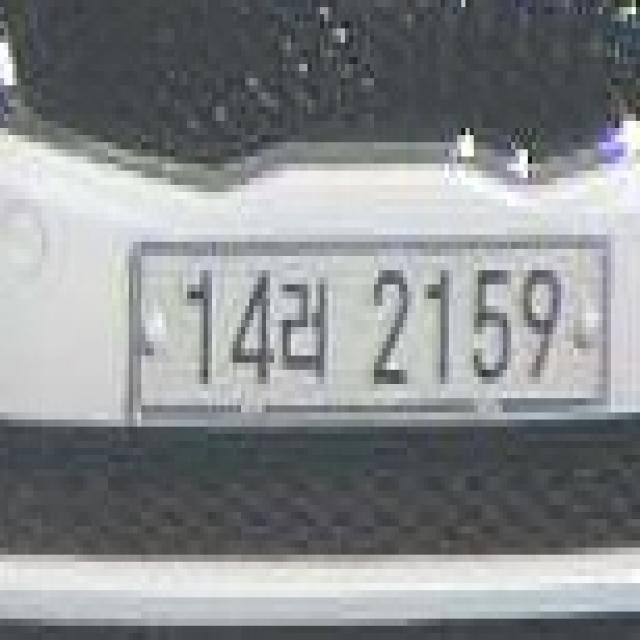1: (416, 256, 466, 391), (179, 263, 224, 398)
2: (366, 256, 416, 398)
4: (228, 270, 278, 391)
5: (466, 263, 520, 391)
9: (516, 242, 574, 398)
leo: (278, 263, 336, 398)
license_plate: (121, 227, 624, 433)
